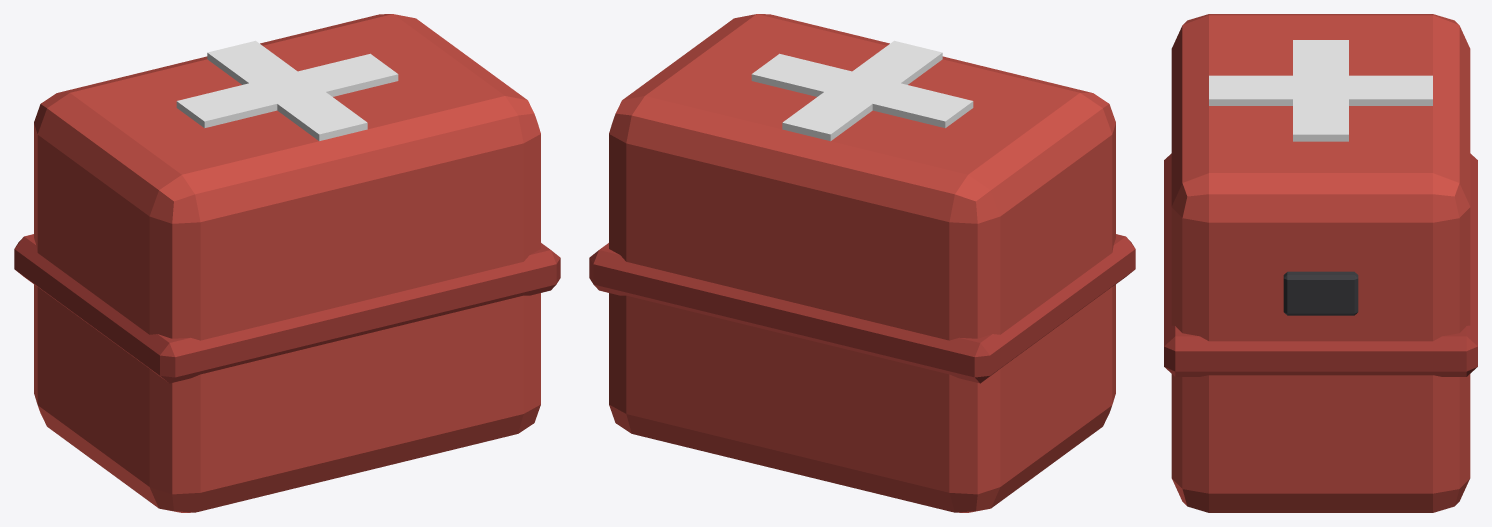
The model's file is medkit.glb.
3 renders of one model, left to right at view 1: azimuth 30°, elevation 25°; view 2: azimuth 150°, elevation 25°; view 3: azimuth 270°, elevation 25°, orthographic.
Parts seen in each view (by area): view 1: Medkit; view 2: Medkit; view 3: Medkit.
Boxes of the visible parts, x1=… form: Medkit: x1=14, y1=14, x2=560, y2=512; Medkit: x1=589, y1=14, x2=1135, y2=512; Medkit: x1=1164, y1=14, x2=1477, y2=512.
Size of the model in its own units: 0.126 by 0.108 by 0.084.
